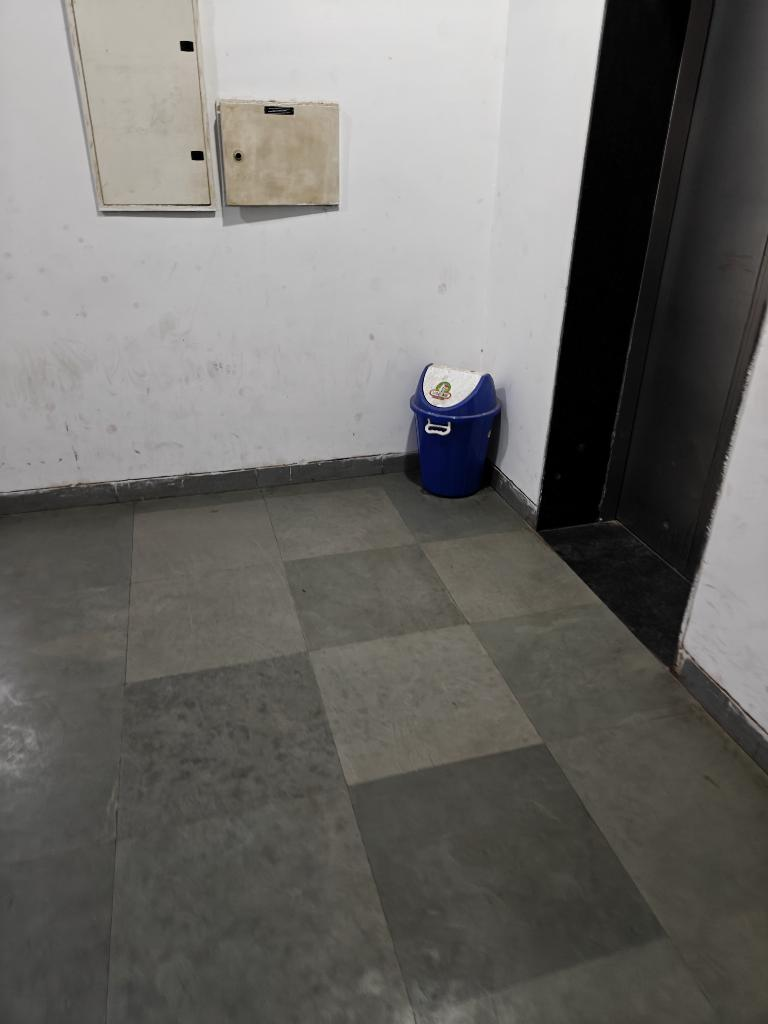dustbin: (403, 352, 511, 506)
